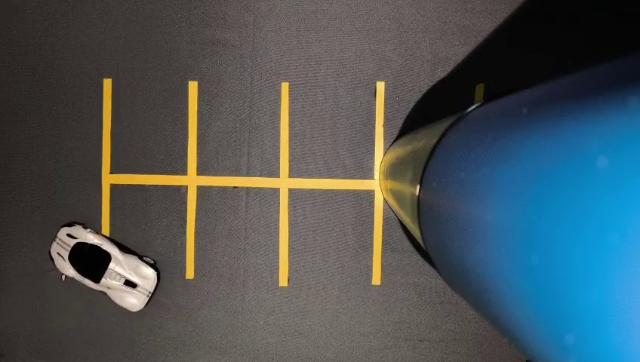toy_car: (35, 209, 212, 342)
